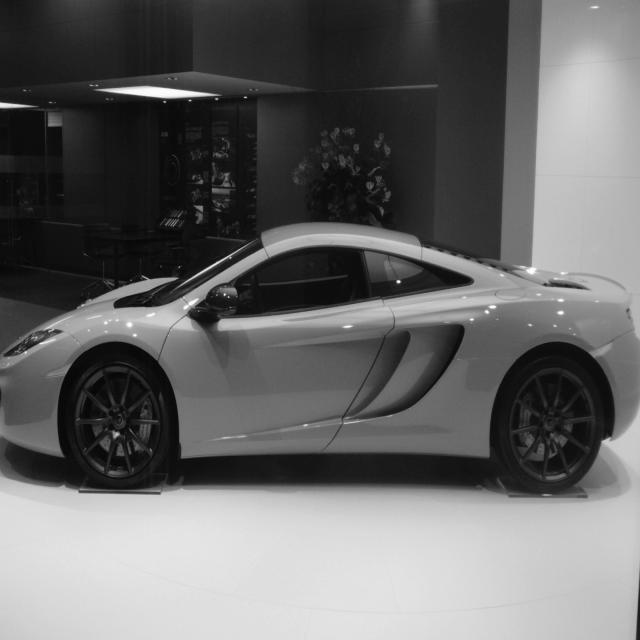car: (1, 220, 640, 496)
